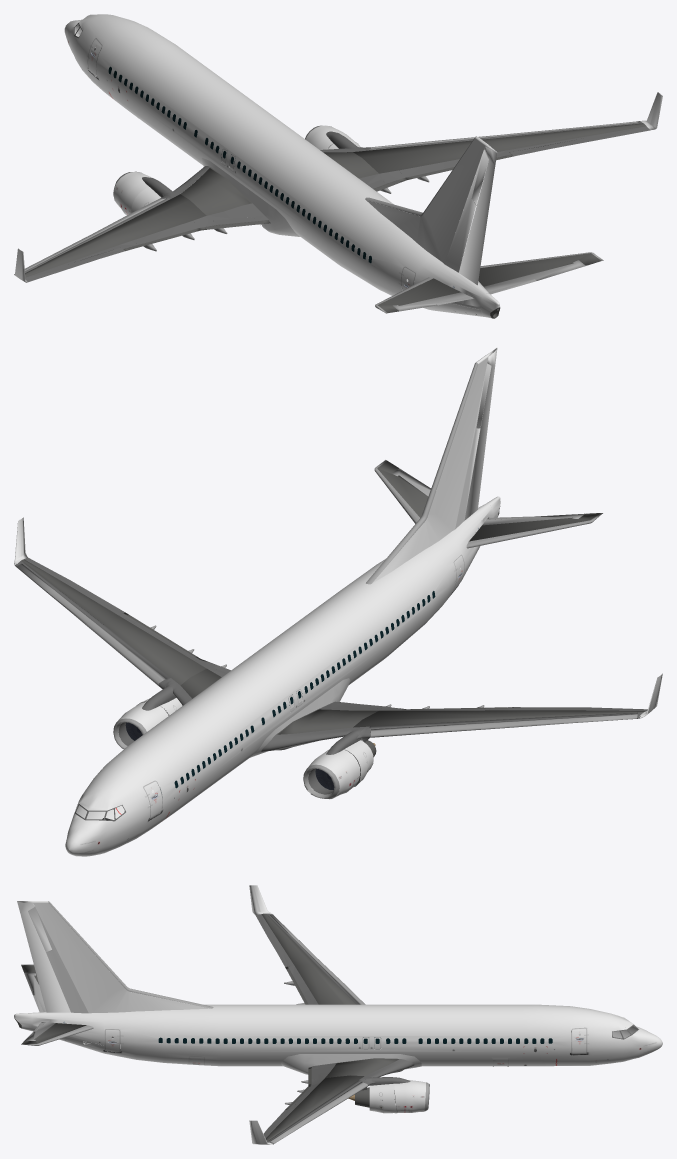
3 renders of one model, top to bottom at view 1: azimuth 30°, elevation 25°; view 2: azimuth 150°, elevation 25°; view 3: azimuth 270°, elevation 25°, orthographic. The views are drawn at different scales.
Visible parts, largest first — view 1: rootNode; view 2: rootNode; view 3: rootNode.
Part boxes in pixels (x1,y1,x2,y2): rootNode: (14, 14, 662, 318); rootNode: (14, 348, 662, 856); rootNode: (14, 885, 662, 1144).
Bounding box in the file's own units: 34.85 × 12.12 × 40.62.
93 materials, 18 textured.
